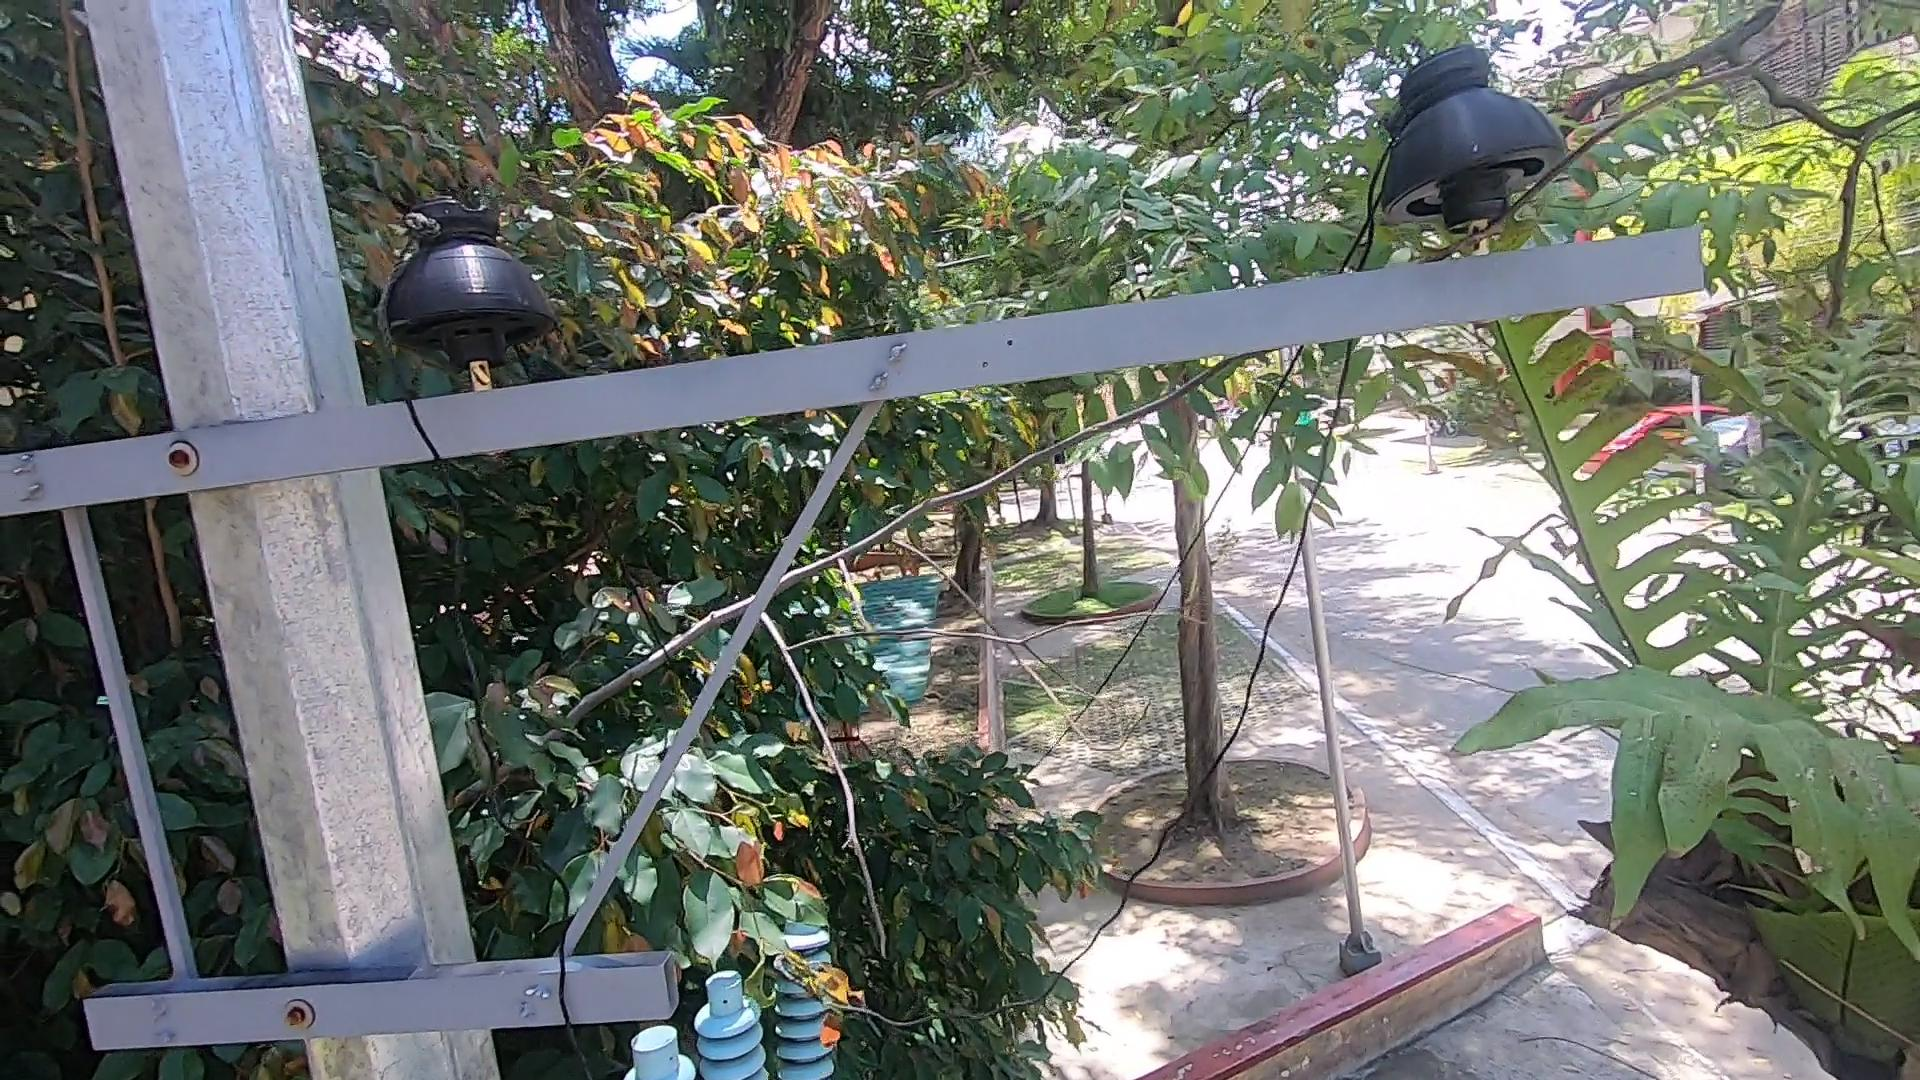tree branch: (443, 22, 1867, 985)
